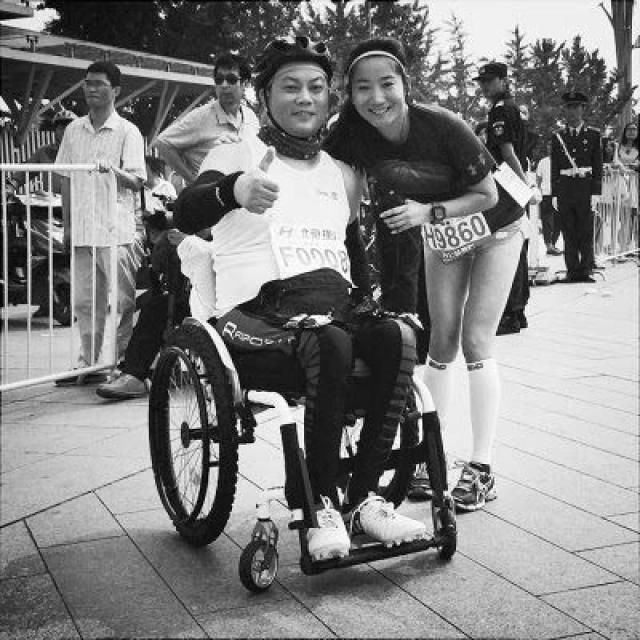wheelchairs: (129, 205, 476, 602)
